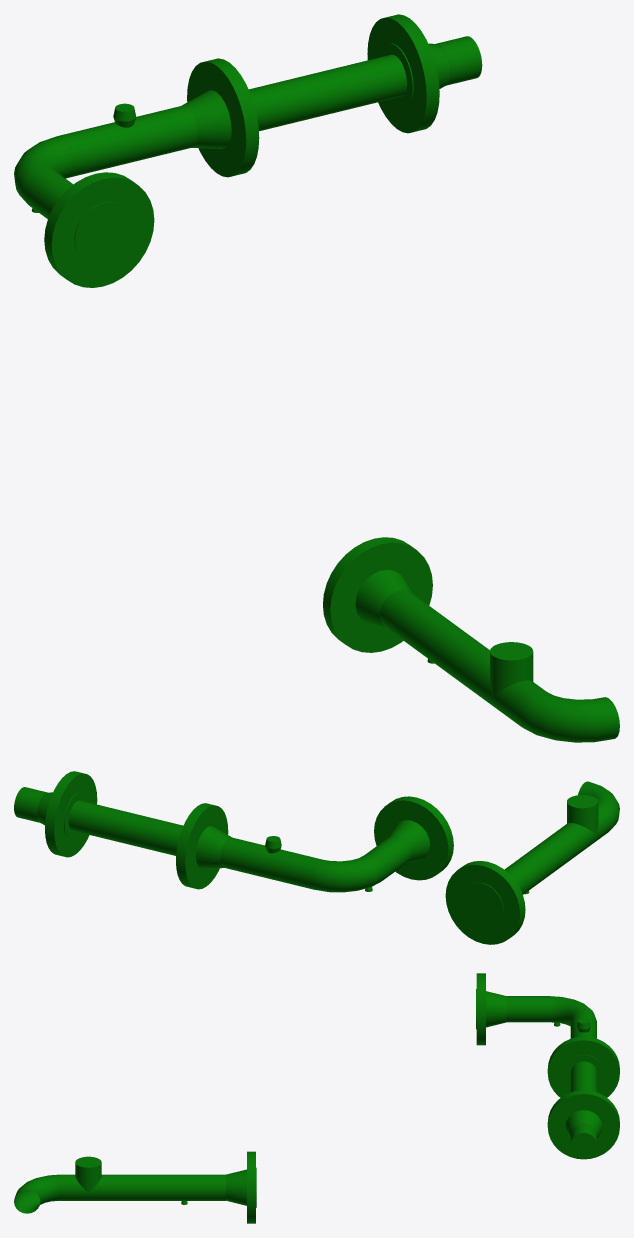
The model's file is Image-1711348112603-2280669806880_45-XW50-PIPE1.fbx.
3 views of the same model, one above another, from view 1: azimuth 30°, elevation 25°; view 2: azimuth 150°, elevation 25°; view 3: azimuth 270°, elevation 25° (orthographic). The views are drawn at different scales.
Parts seen in each view (by area): view 1: Cylinder (×6), FLANGE 3 of BRANCH /45-XW50-PIPE1/B1, FLANGE 1 of BRANCH /45-XW50-PIPE1/B2, FLANGE 2 of BRANCH /45-XW50-PIPE1/B1, FLANGE 1 of BRANCH /45-XW50-PIPE1/B1, ELBOW 1 of BRANCH /45-XW50-PIPE1/B2, TEE 1 of BRANCH /45-XW50-PIPE1/B2, ELBOW 1 of BRANCH /45-XW50-PIPE1/B1; view 2: Cylinder (×6), FLANGE 1 of BRANCH /45-XW50-PIPE1/B2, FLANGE 3 of BRANCH /45-XW50-PIPE1/B1, FLANGE 2 of BRANCH /45-XW50-PIPE1/B1, FLANGE 1 of BRANCH /45-XW50-PIPE1/B1, ELBOW 1 of BRANCH /45-XW50-PIPE1/B1, TEE 1 of BRANCH /45-XW50-PIPE1/B2, ELBOW 1 of BRANCH /45-XW50-PIPE1/B2; view 3: Cylinder (×5), FLANGE 1 of BRANCH /45-XW50-PIPE1/B1, FLANGE 2 of BRANCH /45-XW50-PIPE1/B1, TEE 1 of BRANCH /45-XW50-PIPE1/B2, FLANGE 3 of BRANCH /45-XW50-PIPE1/B1, FLANGE 1 of BRANCH /45-XW50-PIPE1/B2, ELBOW 1 of BRANCH /45-XW50-PIPE1/B2, ELBOW 1 of BRANCH /45-XW50-PIPE1/B1.
Boxes of the visible parts, x1,y1,x2,y2 form: Cylinder (×6): [24, 36, 489, 692]; FLANGE 3 of BRANCH /45-XW50-PIPE1/B1: [44, 172, 154, 287]; FLANGE 1 of BRANCH /45-XW50-PIPE1/B2: [323, 537, 432, 652]; FLANGE 2 of BRANCH /45-XW50-PIPE1/B1: [182, 58, 259, 177]; FLANGE 1 of BRANCH /45-XW50-PIPE1/B1: [367, 14, 450, 133]; ELBOW 1 of BRANCH /45-XW50-PIPE1/B2: [516, 689, 619, 742]; TEE 1 of BRANCH /45-XW50-PIPE1/B2: [470, 642, 544, 726]; ELBOW 1 of BRANCH /45-XW50-PIPE1/B1: [14, 136, 73, 202]; Cylinder (×6): [14, 787, 579, 894]; FLANGE 1 of BRANCH /45-XW50-PIPE1/B2: [445, 861, 525, 944]; FLANGE 3 of BRANCH /45-XW50-PIPE1/B1: [374, 796, 453, 880]; FLANGE 2 of BRANCH /45-XW50-PIPE1/B1: [176, 803, 231, 889]; FLANGE 1 of BRANCH /45-XW50-PIPE1/B1: [37, 771, 97, 857]; ELBOW 1 of BRANCH /45-XW50-PIPE1/B1: [310, 854, 386, 892]; TEE 1 of BRANCH /45-XW50-PIPE1/B2: [557, 795, 612, 855]; ELBOW 1 of BRANCH /45-XW50-PIPE1/B2: [578, 781, 619, 829]; Cylinder (×5): [116, 996, 596, 1200]; FLANGE 1 of BRANCH /45-XW50-PIPE1/B1: [547, 1090, 619, 1159]; FLANGE 2 of BRANCH /45-XW50-PIPE1/B1: [547, 1036, 619, 1097]; TEE 1 of BRANCH /45-XW50-PIPE1/B2: [60, 1156, 116, 1200]; FLANGE 3 of BRANCH /45-XW50-PIPE1/B1: [476, 973, 506, 1045]; FLANGE 1 of BRANCH /45-XW50-PIPE1/B2: [226, 1151, 256, 1223]; ELBOW 1 of BRANCH /45-XW50-PIPE1/B2: [14, 1174, 60, 1213]; ELBOW 1 of BRANCH /45-XW50-PIPE1/B1: [550, 996, 595, 1026].
Bounding box in the file's own units: 0.8155 × 1.38 × 0.547.
